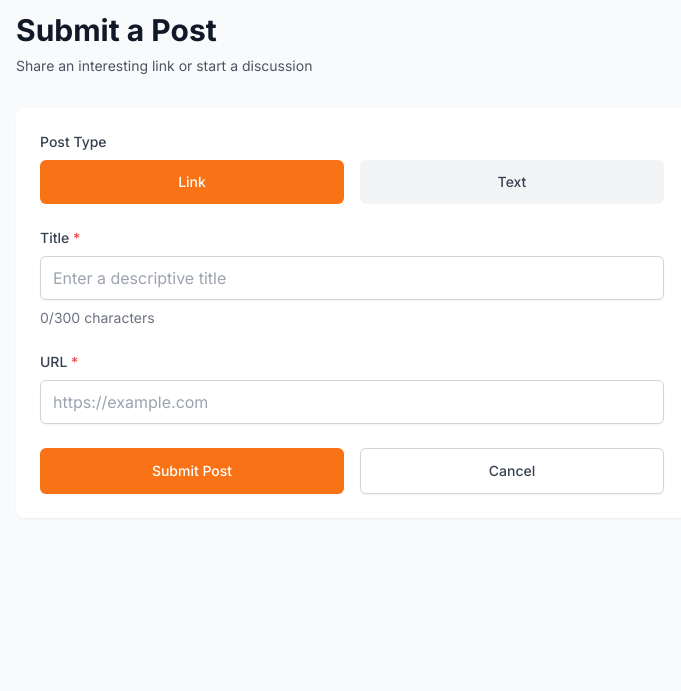
Test: CreatePost Page › Rendering › should show text field when text post type is selected
What coordinates should you click on to do the following:
click the button "Text"
I would click on:
 (512, 182)
Its box is [360, 160, 664, 204].
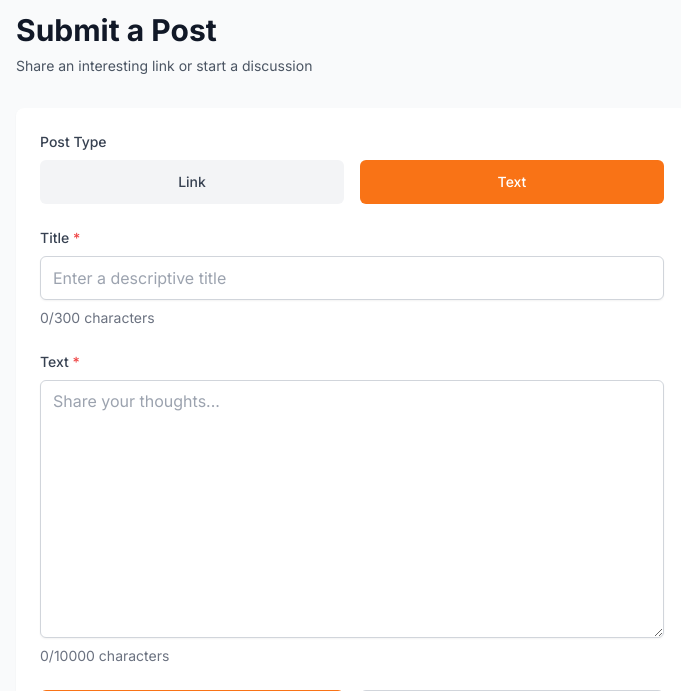
Result: the text box labelled "Text *" is shown at [40, 380, 664, 638]
